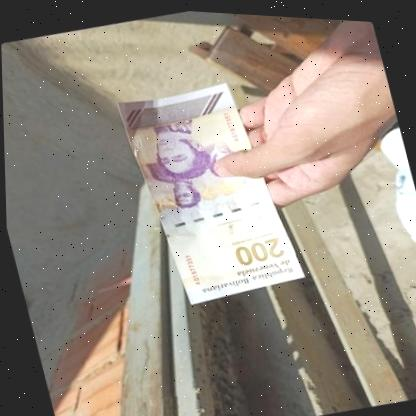two_hundred-front-vef: (112, 67, 308, 315)
